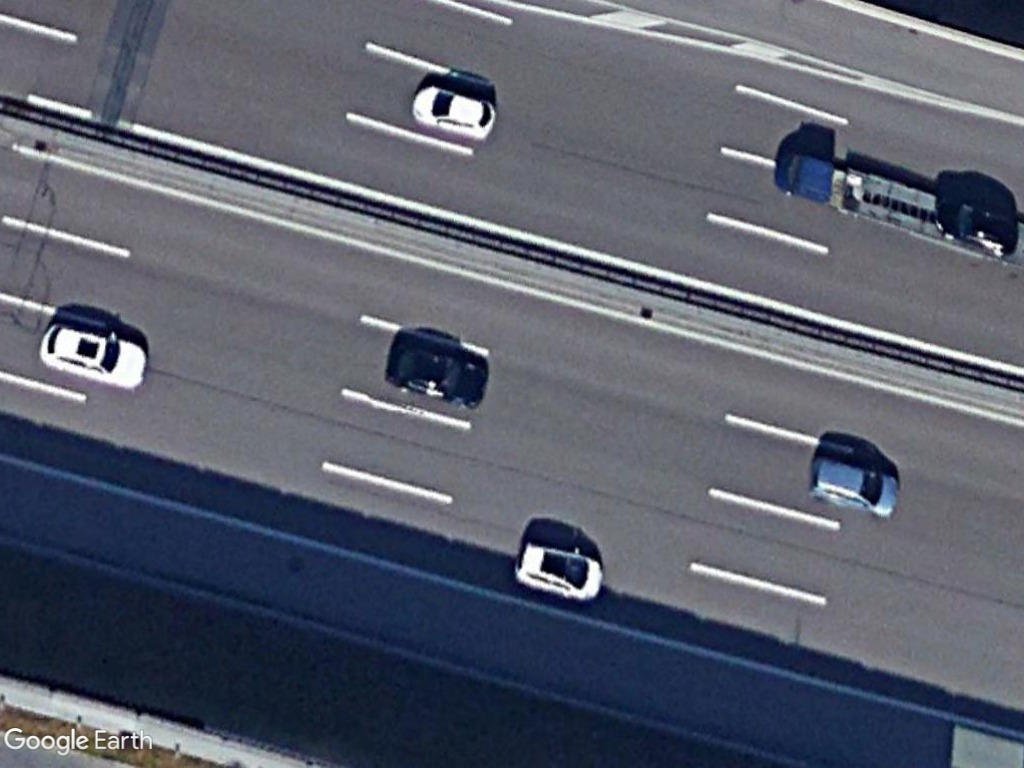car: (34, 322, 151, 393), (808, 455, 903, 522), (513, 540, 608, 604), (405, 82, 501, 141)
